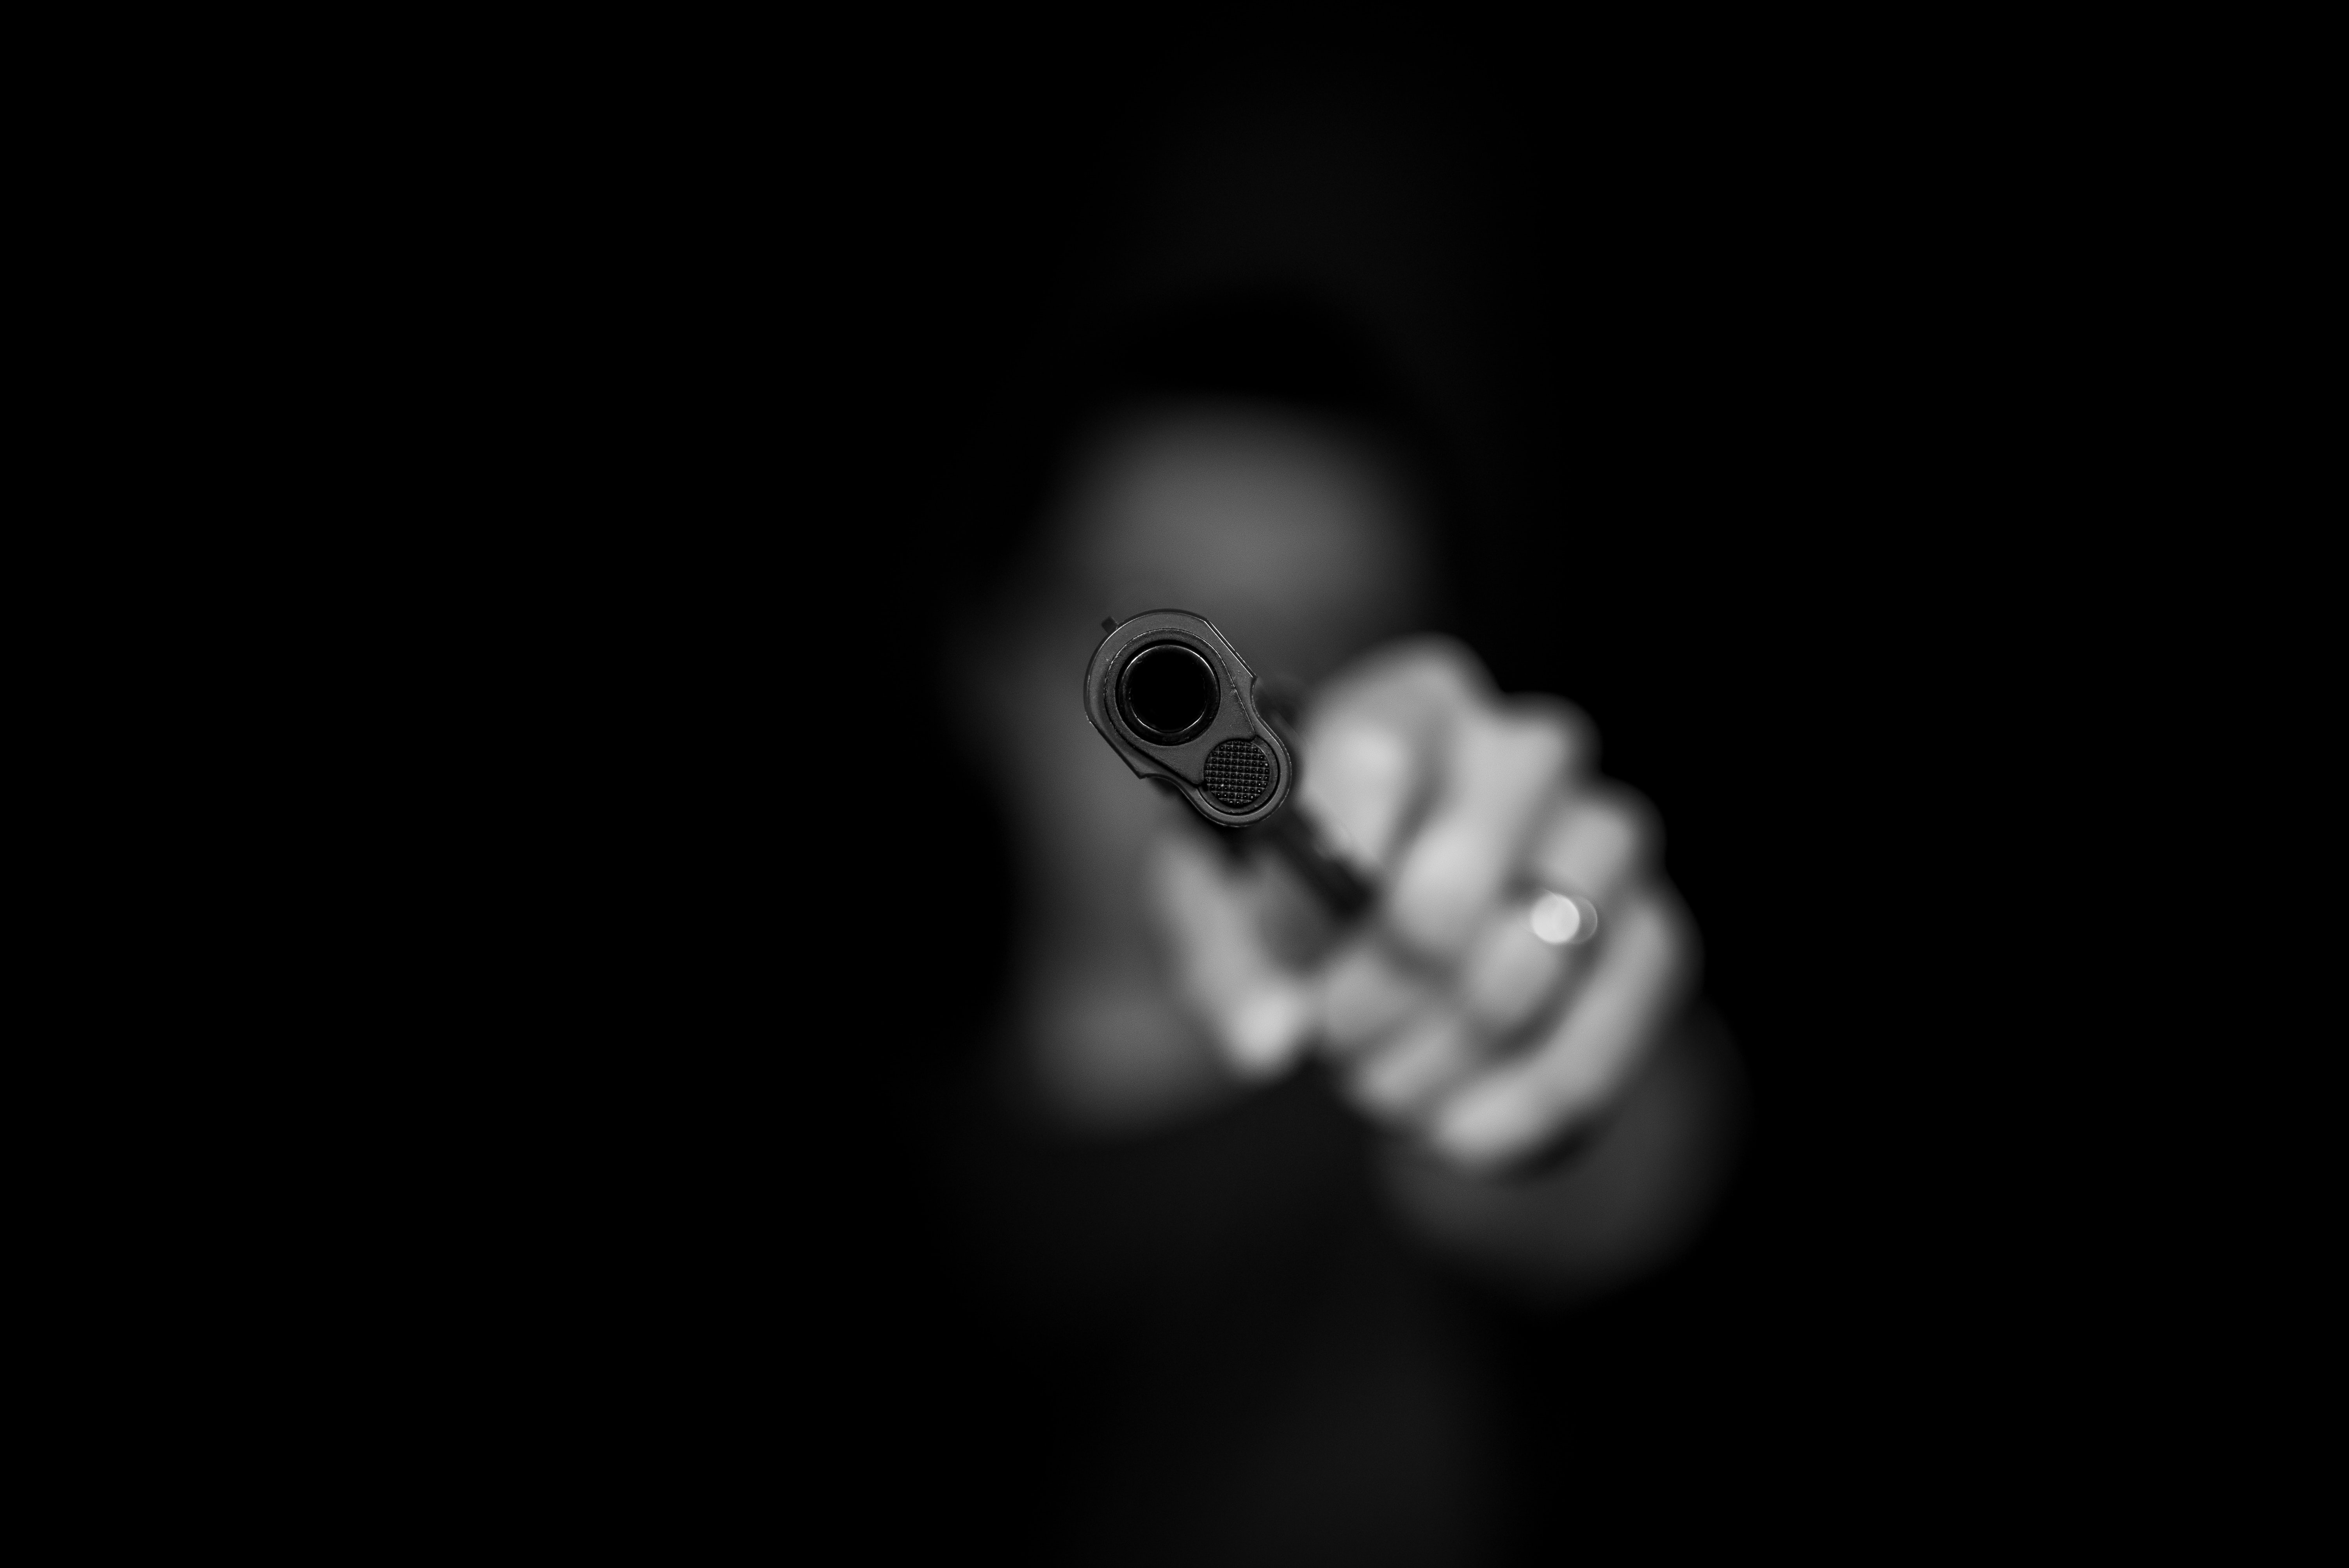Gun: (1034, 588, 1395, 933)
